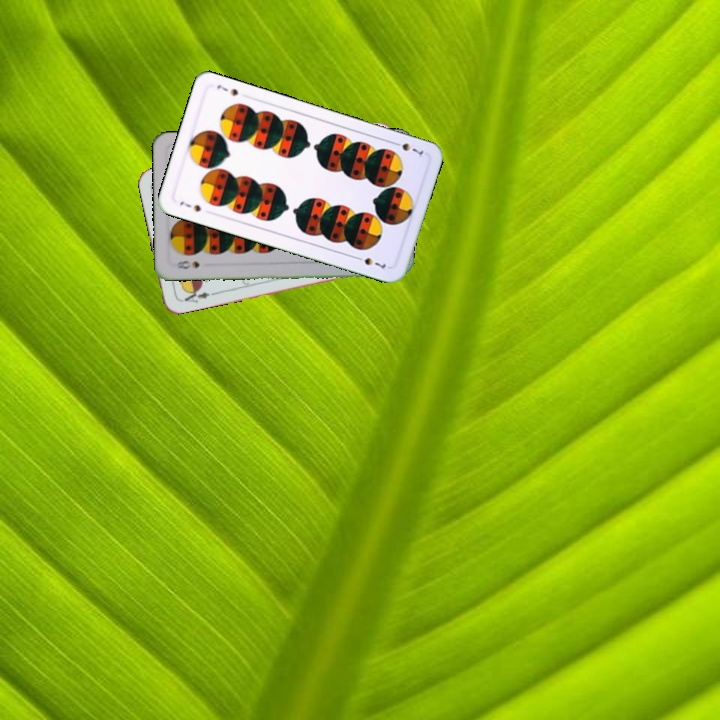EA: (177, 285, 217, 306)
S7: (388, 137, 426, 160), (176, 197, 203, 215)
S8: (172, 256, 202, 272)
